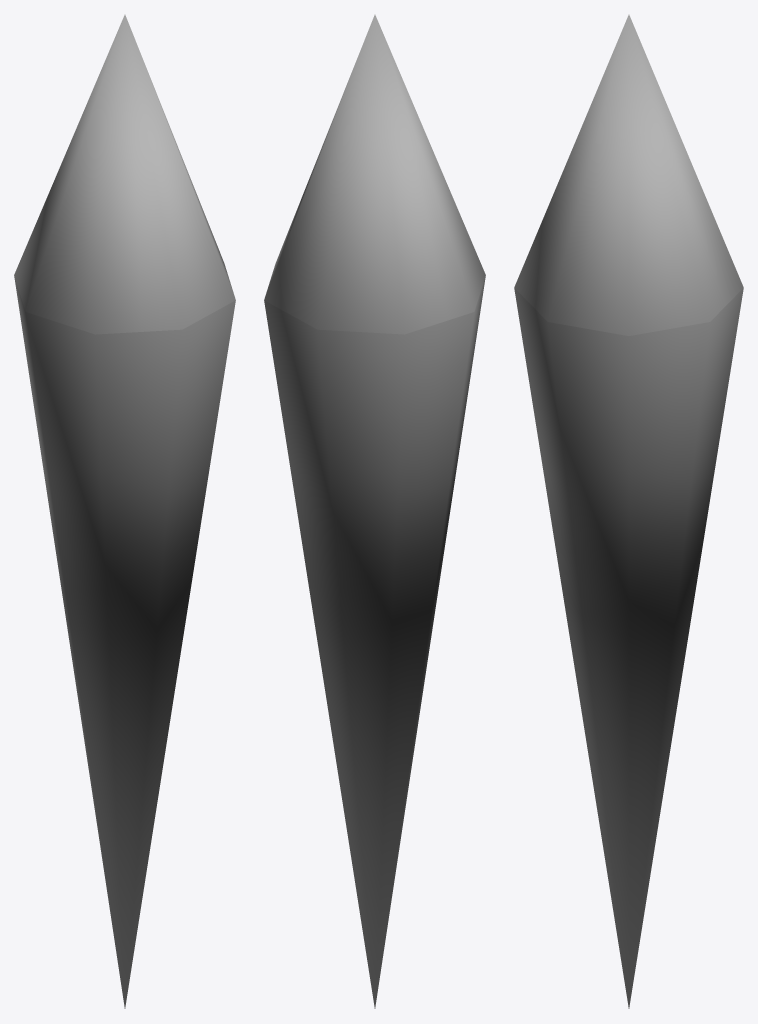
Rendered from Projectile.fbx.
The picture shows the model from 3 angles, left to right: view 1: azimuth 30°, elevation 25°; view 2: azimuth 150°, elevation 25°; view 3: azimuth 270°, elevation 25°; orthographic projection.
Parts seen in each view (by area): view 1: Projectile; view 2: Projectile; view 3: Projectile.
Part boxes in pixels (x1=…): Projectile: x1=14, y1=14, x2=235, y2=1008; Projectile: x1=264, y1=14, x2=485, y2=1008; Projectile: x1=514, y1=14, x2=743, y2=1008.
Size of the model in its own units: 89.33 by 427 by 89.33.
